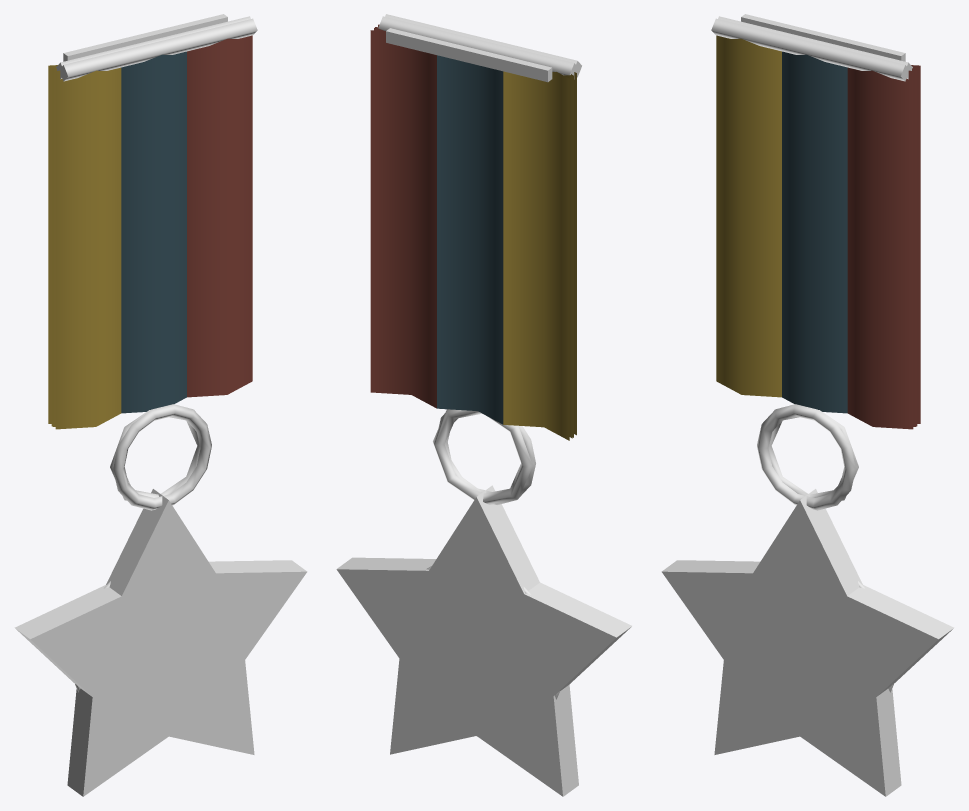
File: inspect_medal_service.glb
3 views of the same model, side by side, from view 1: azimuth 30°, elevation 25°; view 2: azimuth 150°, elevation 25°; view 3: azimuth 330°, elevation 25° (orthographic).
Visible parts, largest first — view 1: inspect_medal_service-2, inspect_medal_service-0, inspect_medal_service-1, inspect_medal_service_lod-0, inspect_medal_service_lod-2; view 2: inspect_medal_service_lod-2, inspect_medal_service_lod-0, inspect_medal_service-0, inspect_medal_service-2; view 3: inspect_medal_service-2, inspect_medal_service-0, inspect_medal_service-1, inspect_medal_service_lod-0, inspect_medal_service_lod-2.
Part boxes in pixels (bbox=[...]): inspect_medal_service-2: bbox=[51, 35, 252, 429]; inspect_medal_service-0: bbox=[18, 14, 307, 796]; inspect_medal_service-1: bbox=[96, 574, 242, 731]; inspect_medal_service_lod-0: bbox=[14, 16, 293, 790]; inspect_medal_service_lod-2: bbox=[48, 65, 57, 426]; inspect_medal_service_lod-2: bbox=[370, 27, 573, 440]; inspect_medal_service_lod-0: bbox=[336, 16, 628, 796]; inspect_medal_service-0: bbox=[349, 14, 631, 794]; inspect_medal_service-2: bbox=[374, 24, 576, 438]; inspect_medal_service-2: bbox=[716, 35, 917, 429]; inspect_medal_service-0: bbox=[661, 14, 950, 796]; inspect_medal_service-1: bbox=[726, 574, 872, 731]; inspect_medal_service_lod-0: bbox=[675, 16, 954, 790]; inspect_medal_service_lod-2: bbox=[911, 65, 920, 426].
Size of the model in its own units: 0.038 by 0.0953 by 0.0061.
